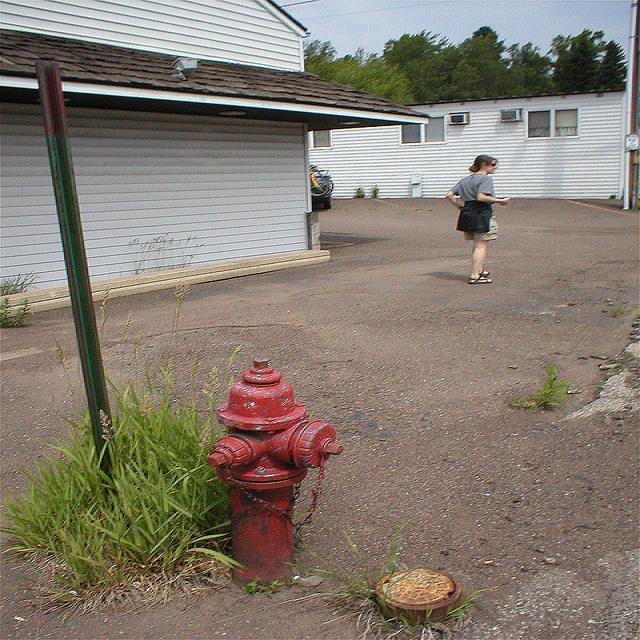fire_hydrant: (208, 359, 346, 584)
